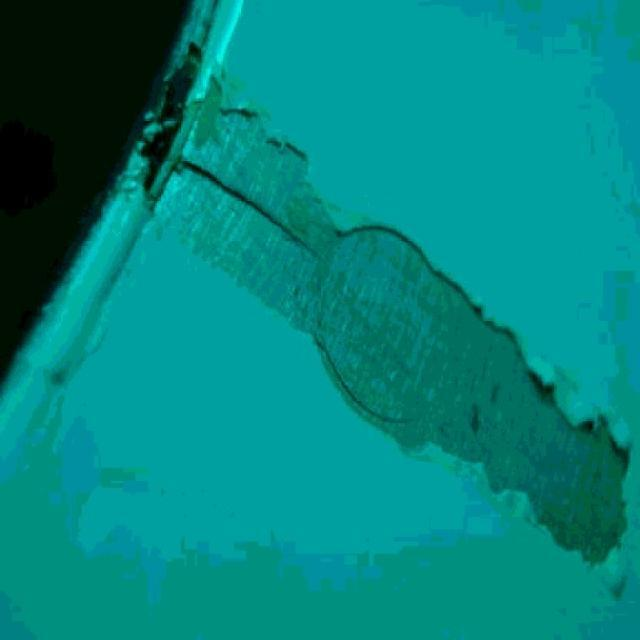crack: (180, 157, 254, 206), (257, 206, 318, 254)
